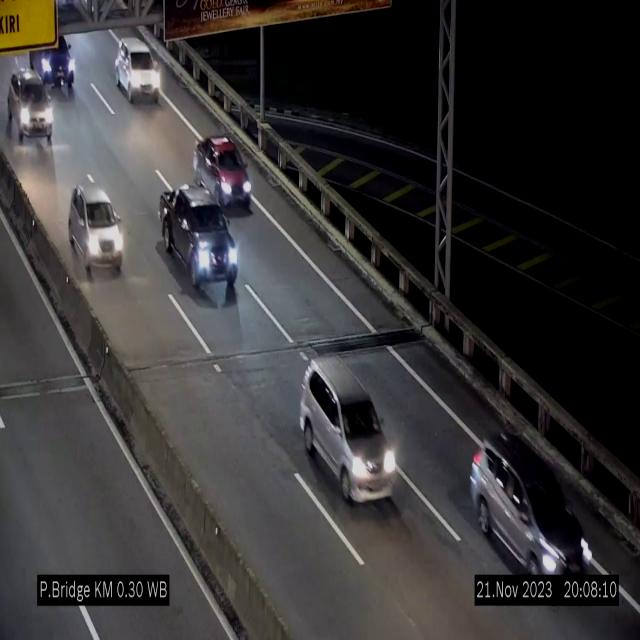Car: (474, 429, 594, 578), (300, 356, 402, 506), (159, 190, 240, 296), (69, 177, 125, 273), (190, 130, 256, 210), (9, 70, 56, 148), (116, 38, 160, 102)
